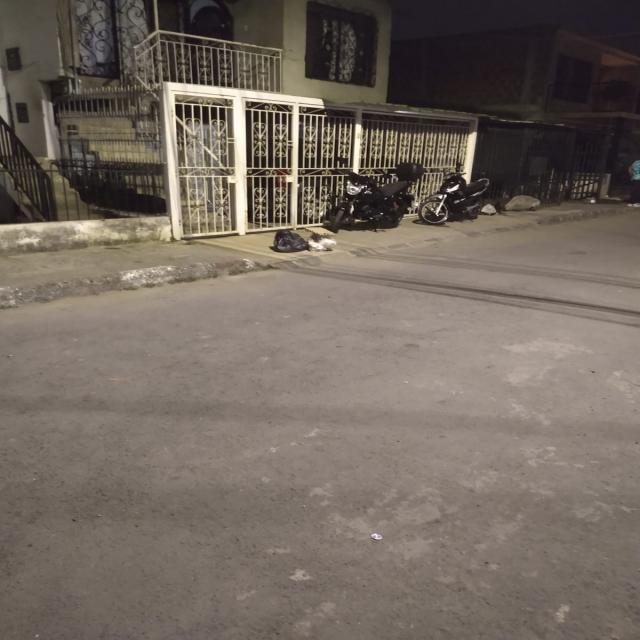Trashbag: (265, 226, 308, 256)
